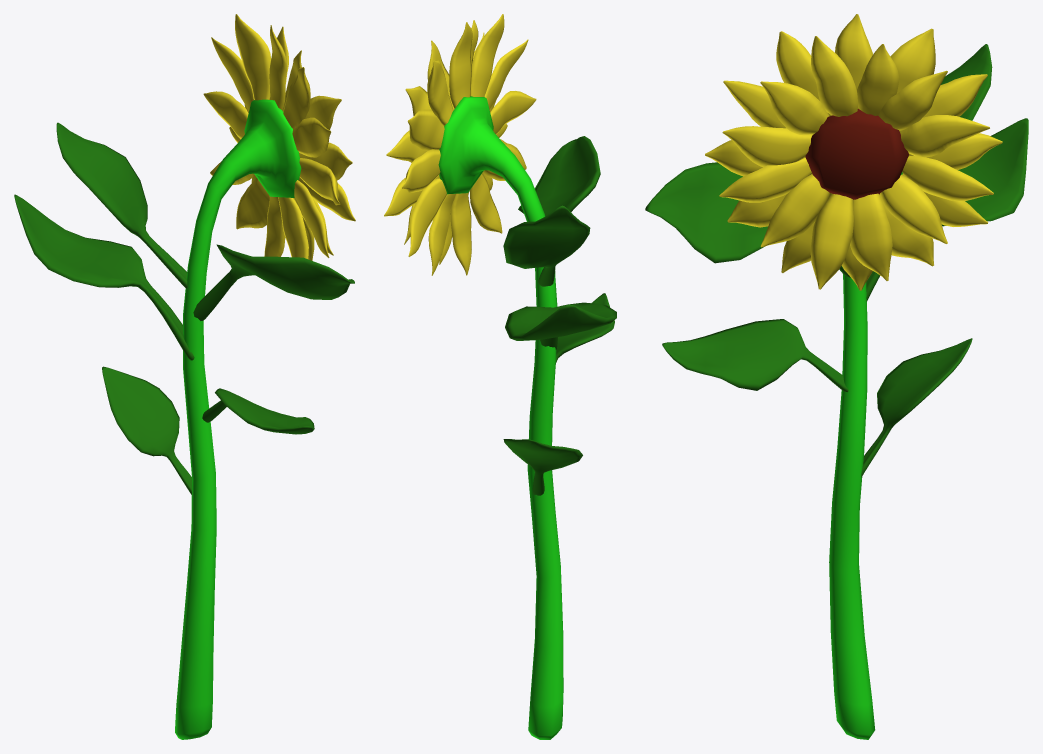
Rendered from sunflower-lp.fbx.
The picture shows the model from 3 angles, left to right: view 1: azimuth 30°, elevation 25°; view 2: azimuth 150°, elevation 25°; view 3: azimuth 270°, elevation 25°; orthographic projection. The views are drawn at different scales.
Visible parts, largest first — view 1: LP; view 2: LP; view 3: LP.
Boxes of the visible parts, x1=… form: LP: x1=14, y1=14, x2=355, y2=739; LP: x1=384, y1=14, x2=616, y2=739; LP: x1=645, y1=14, x2=1028, y2=739.
Size of the model in its own units: 589 by 1803 by 819.
